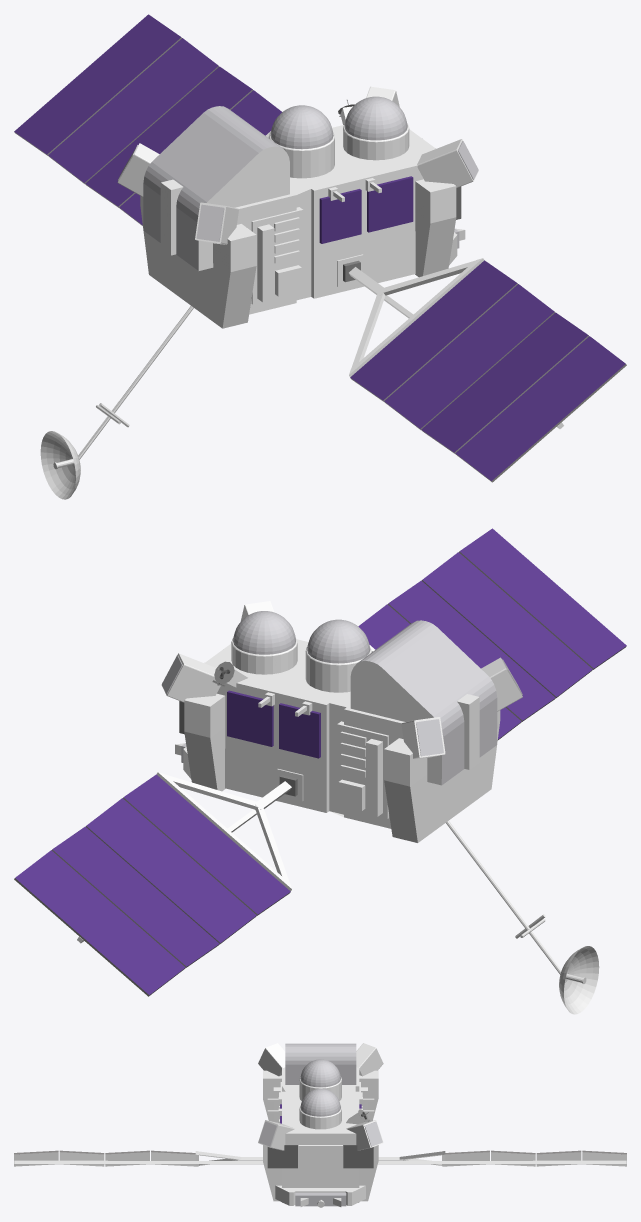
The model's file is GammaRayObservatory.glb.
3 views of the same model, one above another, from view 1: azimuth 30°, elevation 25°; view 2: azimuth 150°, elevation 25°; view 3: azimuth 270°, elevation 25° (orthographic). The views are drawn at different scales.
Parts seen in each view (by area): view 1: <LWODefault>; view 2: <LWODefault>; view 3: <LWODefault>.
Part boxes in pixels (box(x1,y1,x2,y2)): <LWODefault>: box(14, 14, 626, 499); <LWODefault>: box(14, 528, 626, 1014); <LWODefault>: box(14, 1043, 626, 1207).
Bounding box in the file's own units: 1.51 × 1.21 × 3.17.
